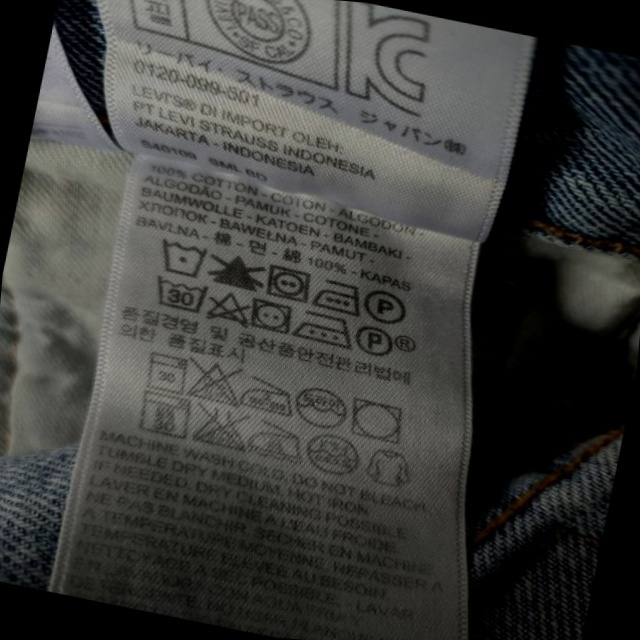30C: (135, 383, 196, 442), (144, 347, 194, 395), (158, 235, 209, 282), (153, 277, 211, 315)
DN_bleach: (189, 355, 249, 409), (208, 248, 264, 295), (205, 287, 252, 330)
dry_clean: (292, 379, 356, 439), (306, 428, 369, 480)
dry_clean_any_solvent_except_trichloroethylene: (364, 286, 412, 327), (353, 319, 397, 362)
iron: (246, 417, 310, 469)
iron_high: (294, 306, 358, 351), (313, 272, 370, 319)
iron_medium: (238, 369, 304, 421)
tumble_dry_medium: (262, 258, 320, 306), (247, 296, 302, 337)
tumble_dry_normal: (347, 391, 414, 446)
